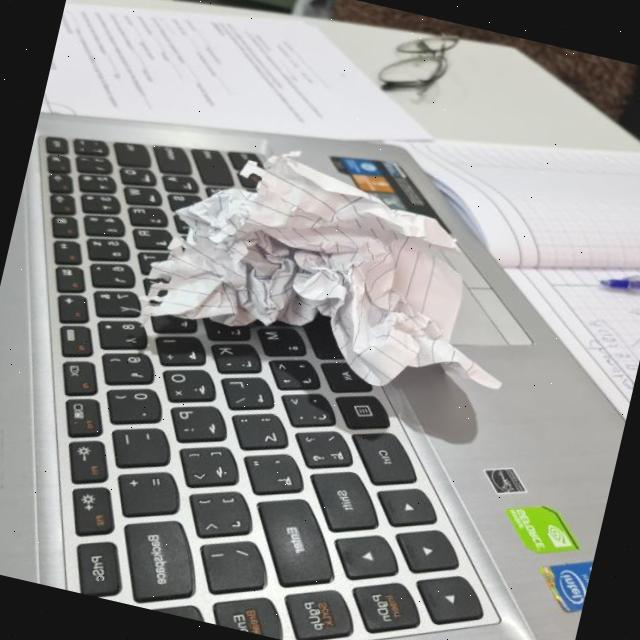trash: (134, 122, 520, 414)
